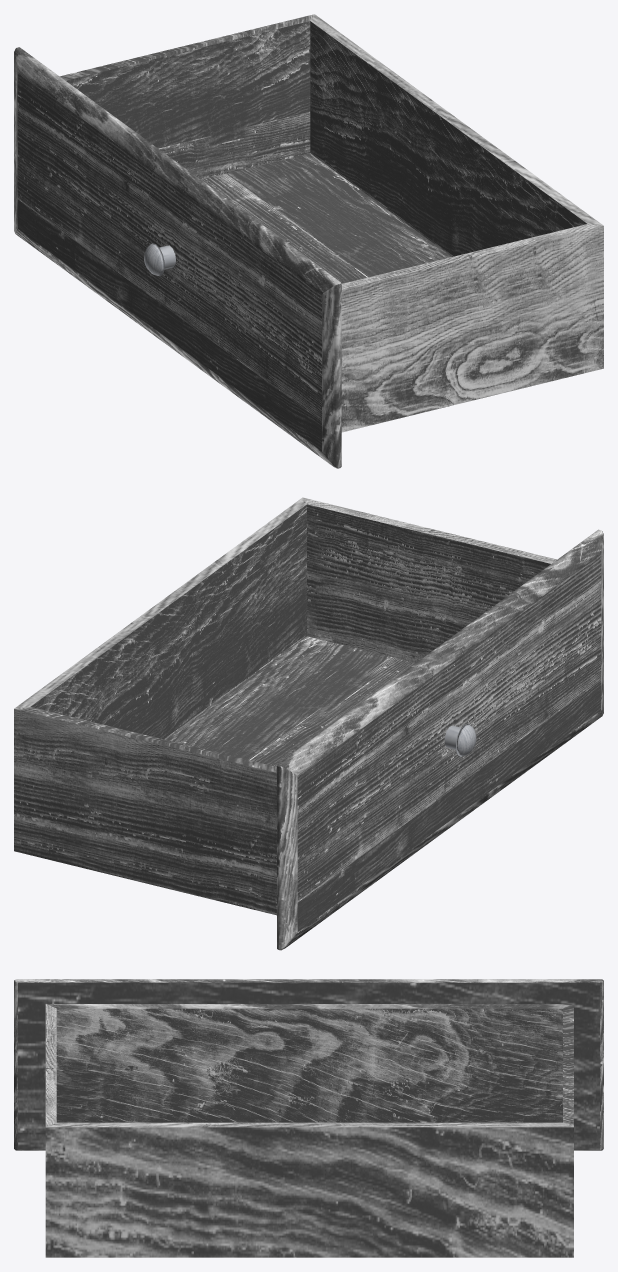
File: SM_Wardrobe_A1_Cab1.fbx
The picture shows the model from 3 angles, top to bottom: view 1: azimuth 30°, elevation 25°; view 2: azimuth 150°, elevation 25°; view 3: azimuth 270°, elevation 25°; orthographic projection. The views are drawn at different scales.
Parts seen in each view (by area): view 1: SM_Wardrobe_A1_Cab1; view 2: SM_Wardrobe_A1_Cab1; view 3: SM_Wardrobe_A1_Cab1.
Boxes of the visible parts, x1=… form: SM_Wardrobe_A1_Cab1: x1=14, y1=14, x2=603, y2=468; SM_Wardrobe_A1_Cab1: x1=14, y1=497, x2=603, y2=950; SM_Wardrobe_A1_Cab1: x1=14, y1=979, x2=603, y2=1257.
Bounding box in the file's own units: 47.55 × 84.54 × 26.86.
2 materials, 2 textured.
